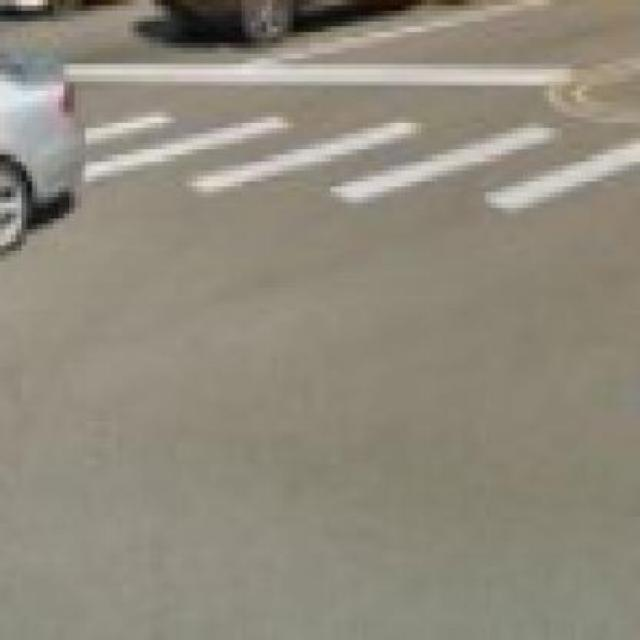crosswalk: (85, 111, 639, 216)
